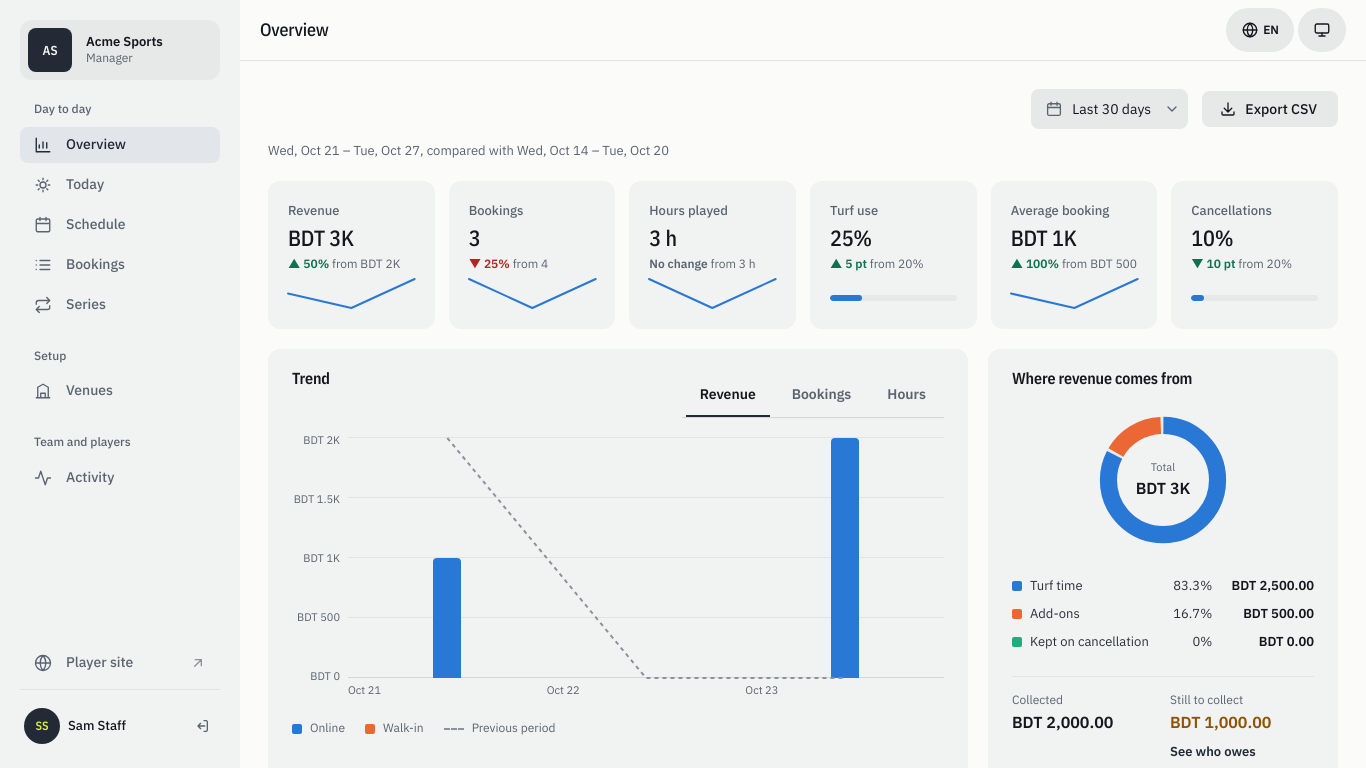
Overview page › switches the trend between revenue, bookings and hours
Click the tab "Hours" at x=907, y=395, box x1=873 y1=373 x2=940 y2=417
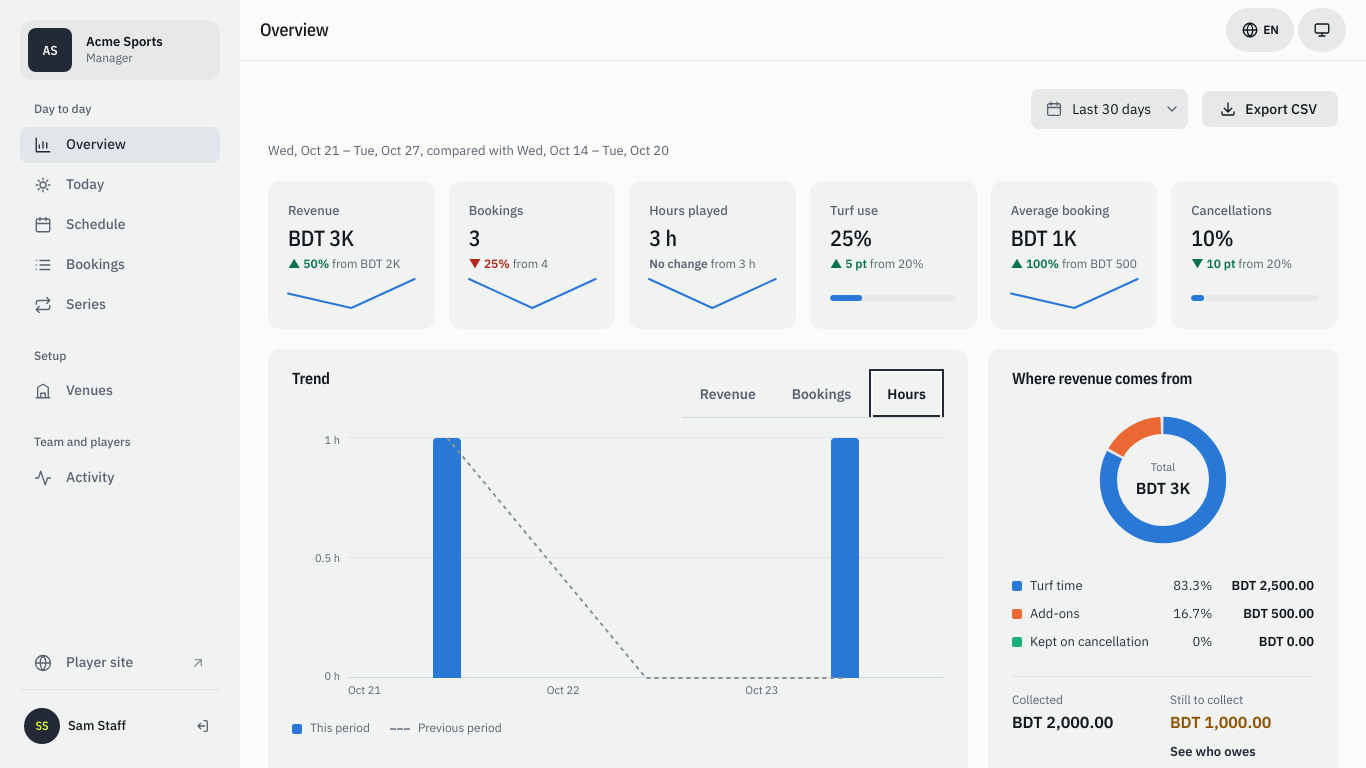
Expected: the table "Hours by day" is shown, x1=292 y1=369 x2=525 y2=496
